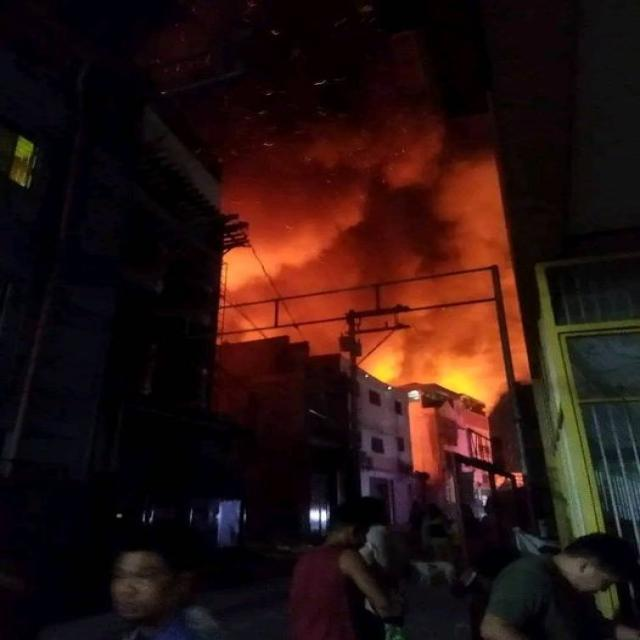Fire: (366, 332, 506, 408)
Smoke: (216, 71, 441, 292), (348, 171, 532, 365)
